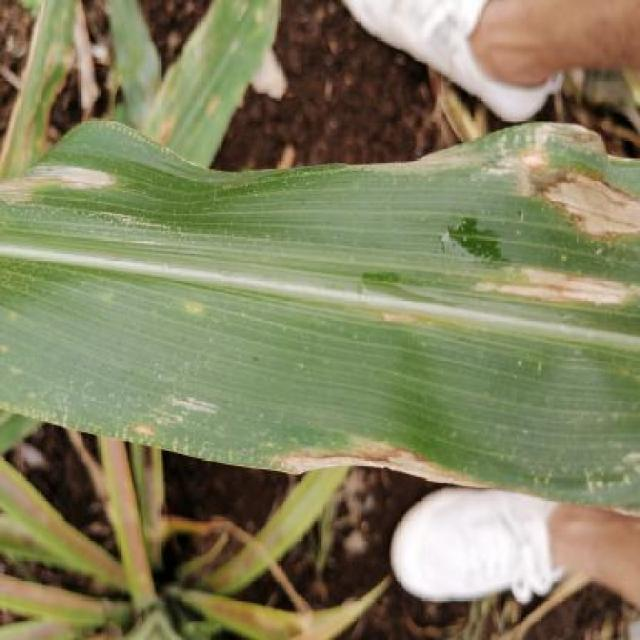Corn_Leaf_Blight: (11, 129, 640, 509)
